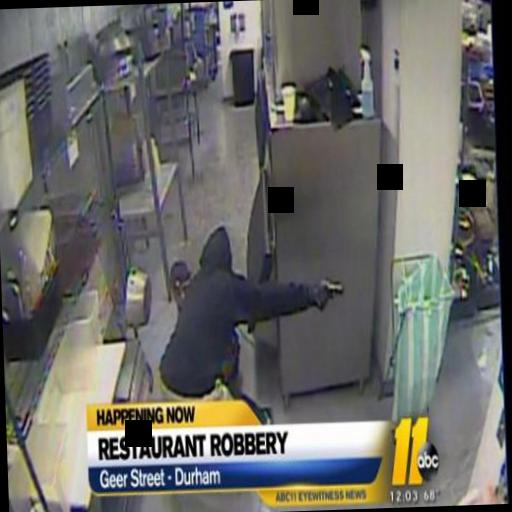Handgun: (312, 269, 348, 330)
